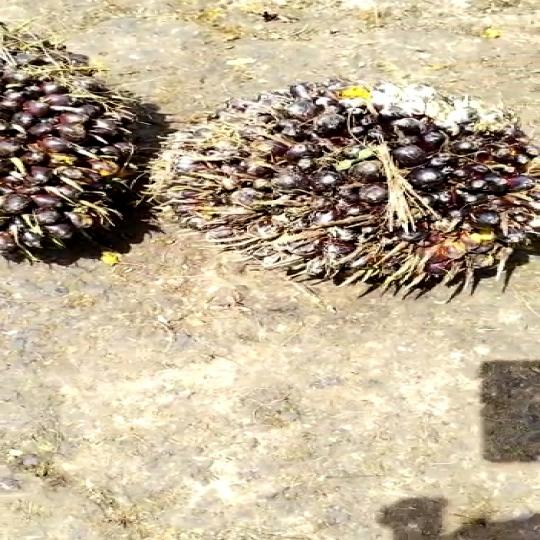mentah: (160, 83, 540, 308), (0, 20, 173, 256)
